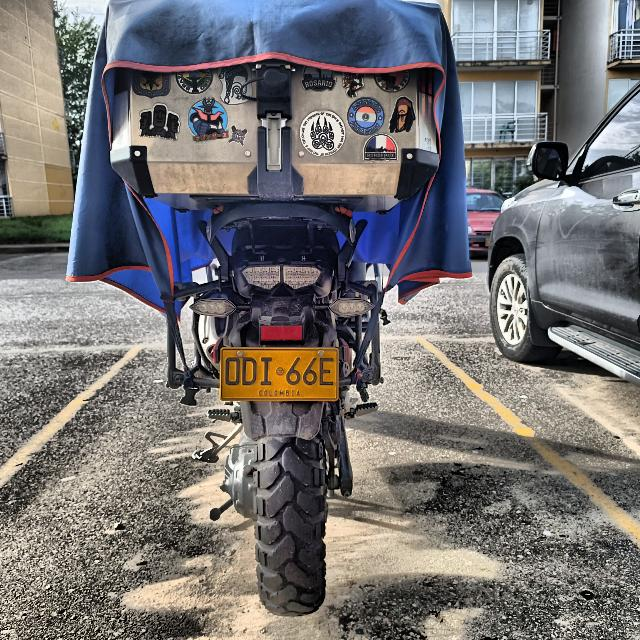plate: (222, 348, 337, 399)
